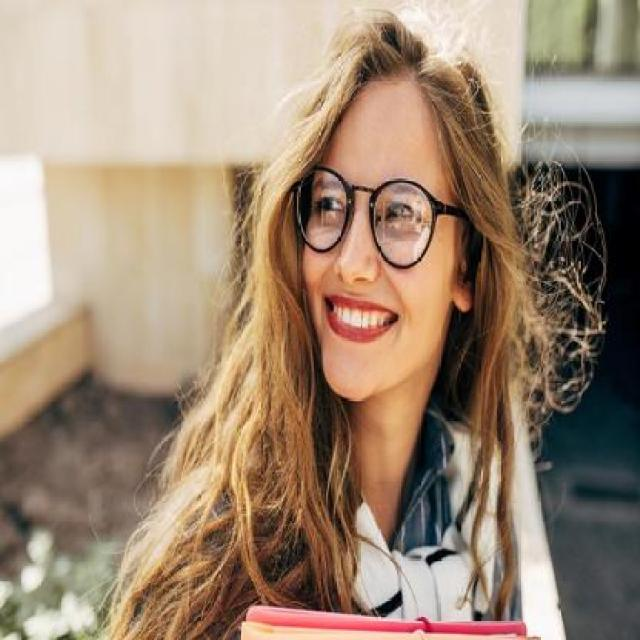glasses: (279, 159, 486, 272)
